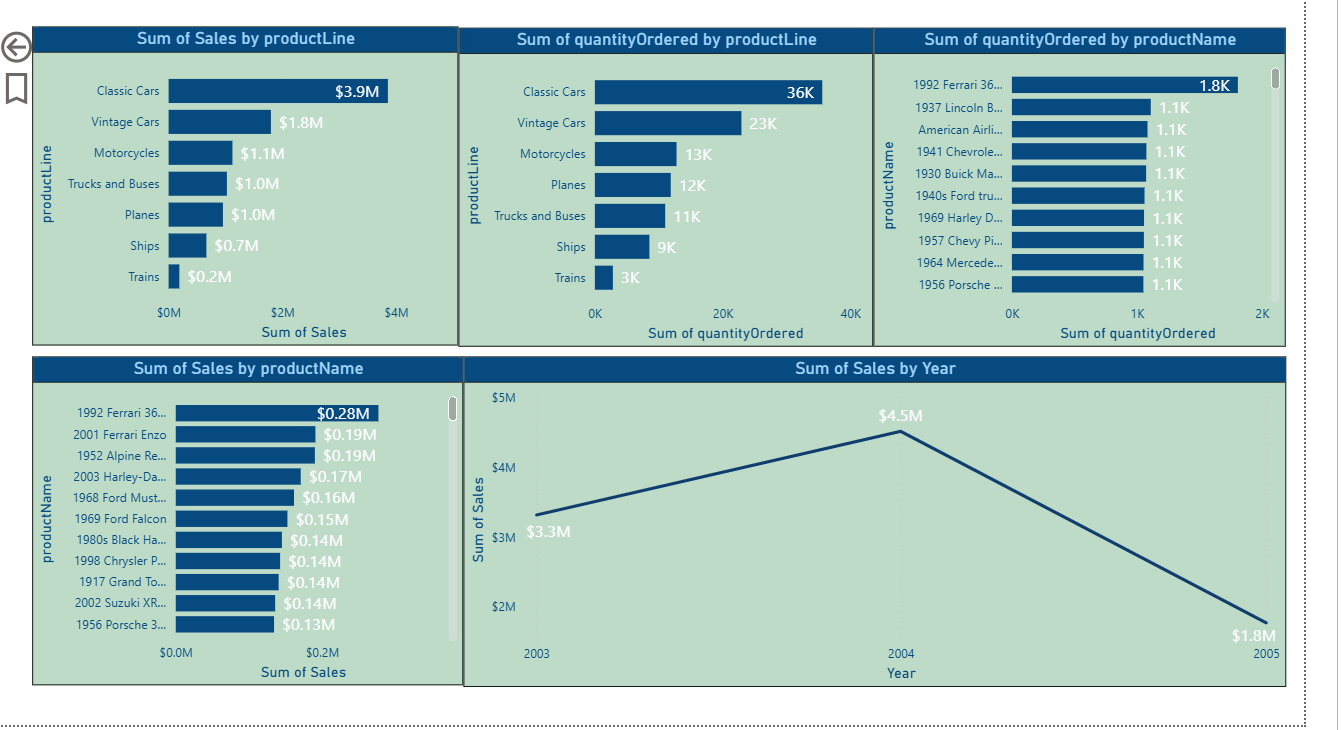

The dashboard page shown, as its layout file describes it:
{"tool":"powerbi","page":{"name":"Page 2","canvas":[1280,720],"ordinal":2},"visuals":[{"type":"actionButton","box":[0,36.7,40.4,40.4],"z":0},{"type":"barChart","fields":{"Category":["products.productLine"],"Y":["Sum(order details.Sales)"]},"box":[35.5,36.7,417,311.8],"z":1000},{"type":"barChart","fields":{"Category":["products.productLine"],"Y":["Sum(order details.quantityOrdered)"]},"box":[452.4,37.9,406,311.8],"z":2000},{"type":"barChart","fields":{"Category":["products.productName"],"Y":["Sum(order details.Sales)"]},"box":[35.5,359.5,421.9,321.6],"z":3000},{"type":"barChart","fields":{"Category":["products.productName"],"Y":["Sum(order details.quantityOrdered)"]},"box":[858.4,37.9,403.5,311.8],"z":4000},{"type":"lineChart","fields":{"Category":["orders.orderDate.Variation.Date Hierarchy.Year","orders.orderDate.Variation.Date Hierarchy.Quarter","orders.orderDate.Variation.Date Hierarchy.Month","orders.orderDate.Variation.Date Hierarchy.Day"],"Y":["Sum(order details.Sales)"]},"box":[457.3,359.5,804.6,322.8],"z":5000},{"type":"actionButton","box":[0,76.5,40.3,40.3],"z":6000}]}

Visuals, with their boxes on the page's 1280x720 design canvas (x1, y1, x2, y2). These are canvas units, not pixel positions in the 1342x730 screenshot, which may show the page scaled, cropped or inside an application window:
actionButton: rect(0, 37, 40, 77)
barChart - products.productLine x Sum(order details.Sales): rect(36, 37, 452, 348)
barChart - products.productLine x Sum(order details.quantityOrdered): rect(452, 38, 858, 350)
barChart - products.productName x Sum(order details.Sales): rect(36, 360, 457, 681)
barChart - products.productName x Sum(order details.quantityOrdered): rect(858, 38, 1262, 350)
lineChart - orders.orderDate.Variation.Date Hierarchy.Year x orders.orderDate.Variation.Date Hierarchy.Quarter: rect(457, 360, 1262, 682)
actionButton: rect(0, 76, 40, 117)
